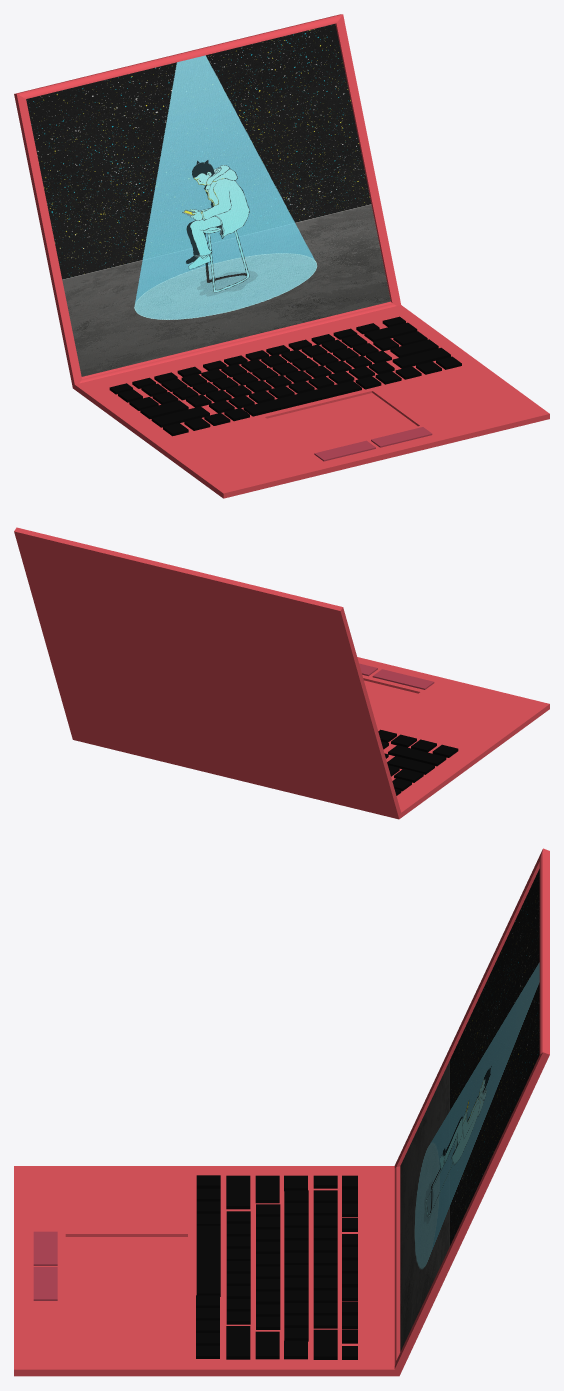
Rendered from laptokNEW.glb.
3 views of the same model, one above another, from view 1: azimuth 30°, elevation 25°; view 2: azimuth 150°, elevation 25°; view 3: azimuth 270°, elevation 25° (orthographic). The views are drawn at different scales.
Parts seen in each view (by area): view 1: Plane; view 2: Plane; view 3: Plane.
Boxes of the visible parts, x1,y1,x2,y2 form: Plane: (14, 14, 549, 498); Plane: (14, 527, 549, 819); Plane: (14, 848, 549, 1376).
Bounding box in the file's own units: 10 × 7.42 × 11.12.
Materials: 9 (1 with a texture image).
